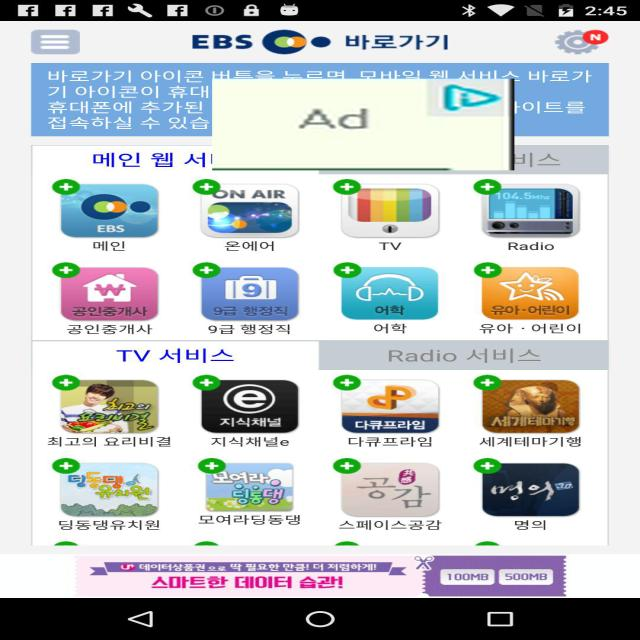sneaking: (212, 79, 514, 170)
